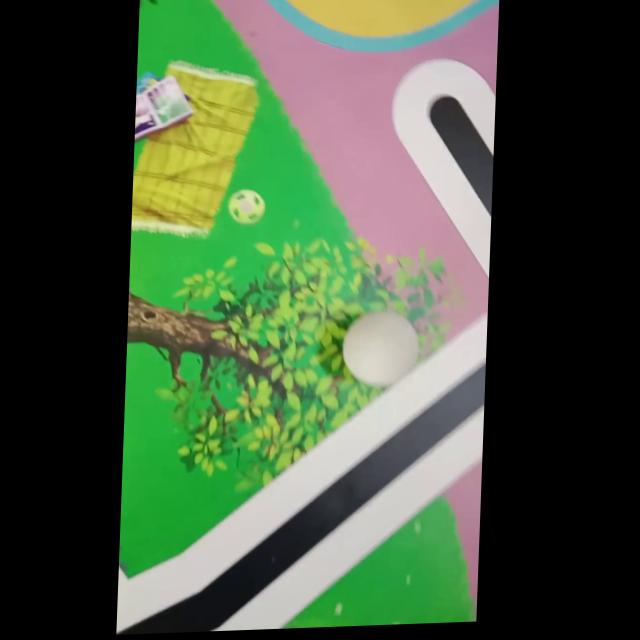white ball: (340, 308, 421, 389)
